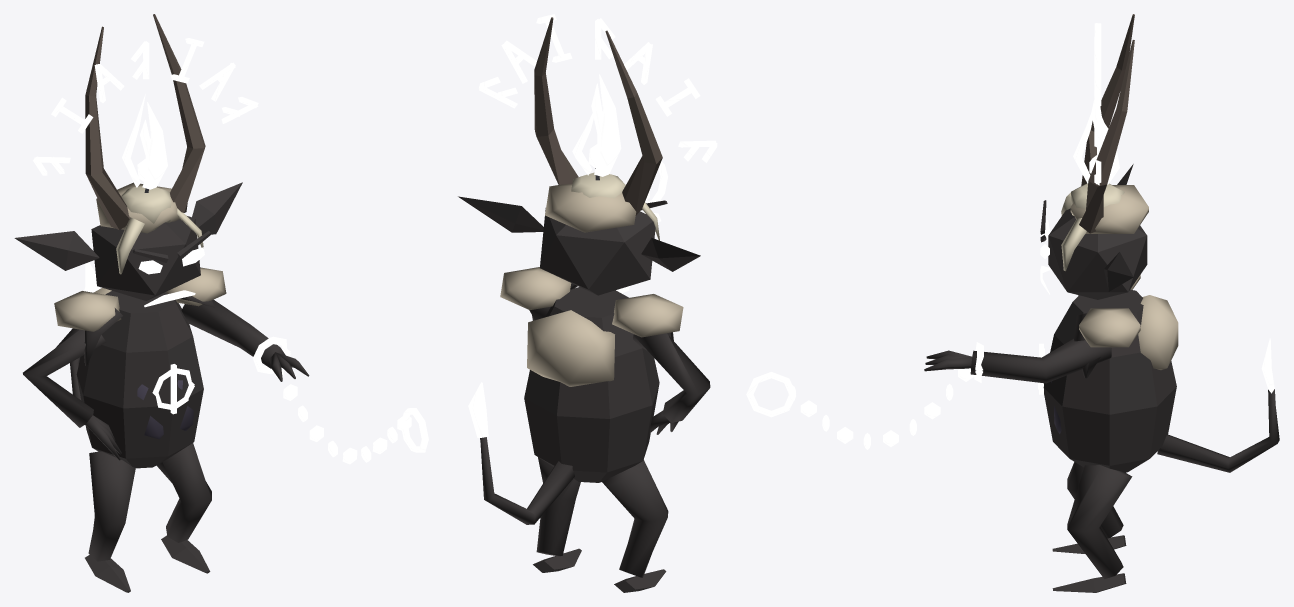
The model's file is fiend-mark-of-the-sworn.glb.
The picture shows the model from 3 angles, left to right: view 1: azimuth 30°, elevation 25°; view 2: azimuth 150°, elevation 25°; view 3: azimuth 270°, elevation 25°; orthographic projection. The views are drawn at different scales.
Visible parts, largest first — view 1: fiend_mark_of_the_sworn; view 2: fiend_mark_of_the_sworn; view 3: fiend_mark_of_the_sworn.
Boxes of the visible parts, bbox=[...] form: fiend_mark_of_the_sworn: bbox=[14, 14, 428, 592]; fiend_mark_of_the_sworn: bbox=[458, 14, 717, 592]; fiend_mark_of_the_sworn: bbox=[746, 14, 1279, 592].
Bounding box in the file's own units: 0.4524 × 1.01 × 0.8908.
